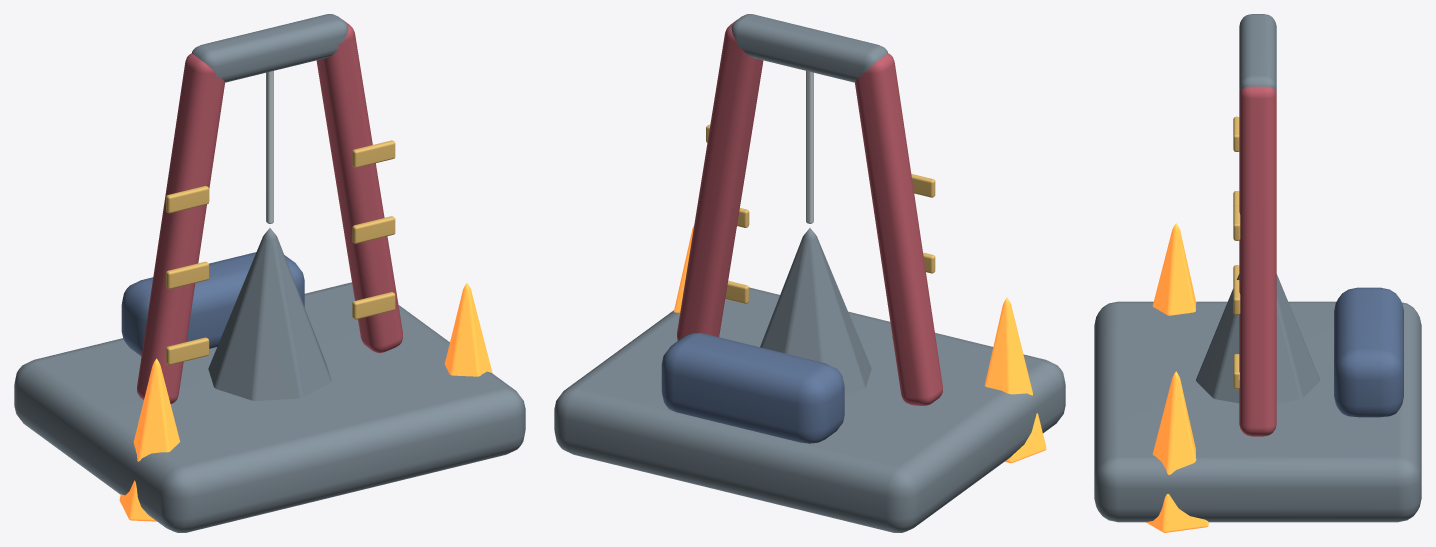
The model's file is Decor_Volcano.fbx.
3 renders of one model, left to right at view 1: azimuth 30°, elevation 25°; view 2: azimuth 150°, elevation 25°; view 3: azimuth 270°, elevation 25°, orthographic. The views are drawn at different scales.
Visible parts, largest first — view 1: Mining platform, Derrick leg, Mining drill, Derrick leg.001, Derrick crossbar, Ore bin, Basalt crystal, Basalt crystal.001, Suspension, Hazard stripe.004, Hazard stripe, Hazard stripe.003 (+3 smaller); view 2: Mining platform, Derrick leg, Ore bin, Derrick leg.001, Mining drill, Derrick crossbar, Basalt crystal, Suspension; view 3: Mining platform, Derrick leg.001, Ore bin, Mining drill, Basalt crystal.001, Derrick crossbar, Basalt crystal.
Part boxes in pixels (x1,y1,x2,y2): Mining platform: (14, 282, 525, 532); Derrick leg: (137, 53, 224, 403); Mining drill: (208, 228, 331, 400); Derrick leg.001: (316, 21, 402, 353); Derrick crossbar: (192, 14, 348, 82); Ore bin: (121, 252, 304, 356); Basalt crystal: (119, 358, 180, 521); Basalt crystal.001: (444, 283, 492, 376); Suspension: (266, 71, 273, 223); Hazard stripe.004: (352, 216, 395, 243); Hazard stripe: (166, 337, 209, 364); Hazard stripe.003: (352, 292, 395, 319); Mining platform: (554, 287, 1065, 532); Derrick leg: (855, 53, 942, 405); Ore bin: (661, 333, 844, 443); Derrick leg.001: (677, 21, 763, 340); Mining drill: (760, 228, 871, 394); Derrick crossbar: (731, 14, 887, 82); Basalt crystal: (984, 297, 1046, 463); Suspension: (806, 71, 813, 223); Mining platform: (1094, 301, 1421, 522); Derrick leg.001: (1239, 86, 1276, 436); Ore bin: (1334, 287, 1403, 417); Mining drill: (1196, 274, 1319, 403); Basalt crystal.001: (1146, 371, 1208, 532); Derrick crossbar: (1239, 14, 1276, 92); Basalt crystal: (1152, 223, 1196, 315).
Bounding box in the file's own units: 364 × 376 × 280.
